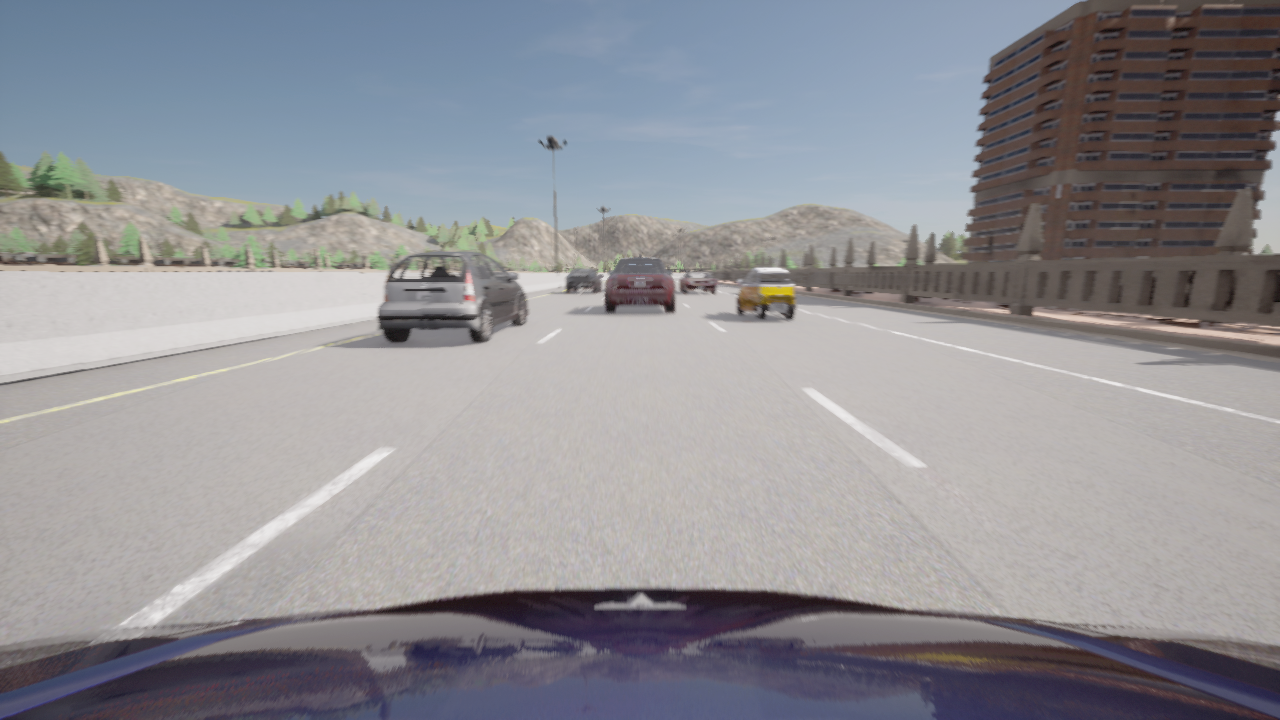cyclist: (0, 588, 1279, 719), (376, 251, 527, 343), (605, 257, 674, 312), (736, 267, 795, 320), (565, 268, 601, 293), (680, 272, 716, 293)
pedestrian: (755, 265, 756, 267)
